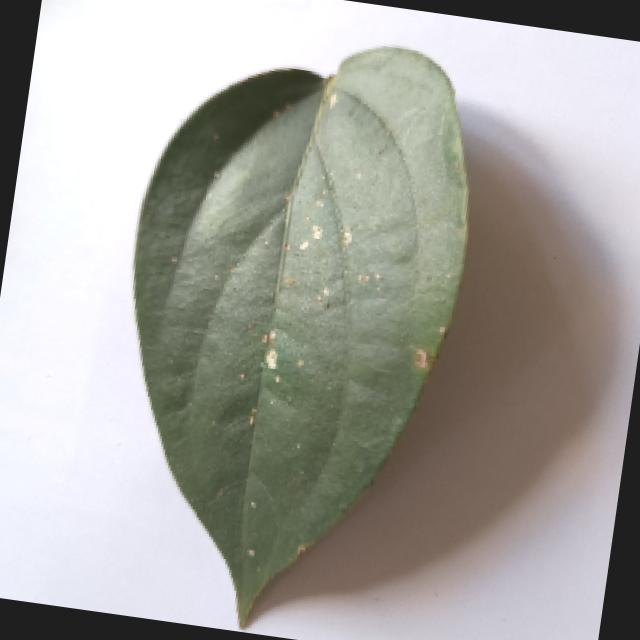pollu-disease: (85, 13, 492, 640)
